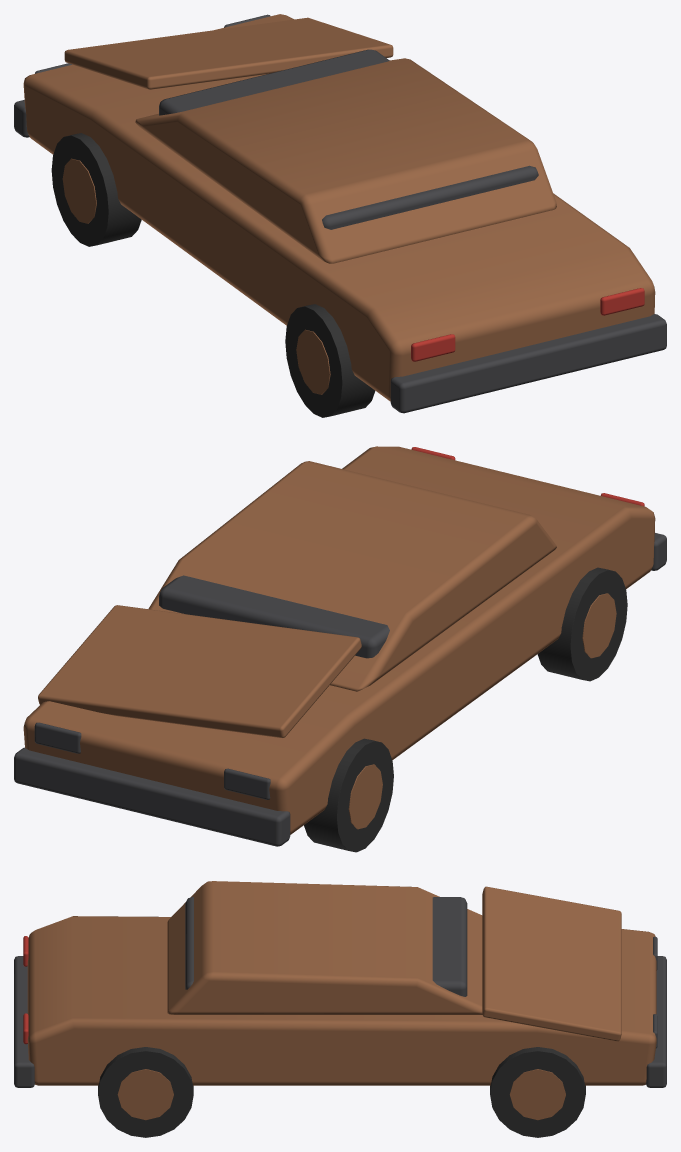
File: car_wreck.glb
3 views of the same model, one above another, from view 1: azimuth 30°, elevation 25°; view 2: azimuth 150°, elevation 25°; view 3: azimuth 270°, elevation 25° (orthographic). The views are drawn at different scales.
Visible parts, largest first — view 1: Body, Cabin, Bonnet, BumperR, Interior, Wheel, Wheel.001, Hub, Hub.001, Taillight, Taillight.001; view 2: Body, Cabin, Bonnet, BumperF, Interior, Wheel, Wheel.001, Hub, Hub.001, Headlight.001, Headlight; view 3: Body, Cabin, Bonnet, Wheel.002, Wheel.003, Interior, Hub.002, Hub.003, BumperR, BumperF.
Part boxes in pixels (bbox=[...]): Body: bbox=[23, 14, 655, 401]; Cabin: bbox=[135, 58, 556, 263]; Bonnet: bbox=[64, 17, 393, 89]; BumperR: bbox=[390, 314, 666, 413]; Interior: bbox=[159, 49, 538, 229]; Wheel: bbox=[285, 304, 375, 417]; Wheel.001: bbox=[51, 133, 141, 246]; Hub: bbox=[296, 329, 330, 394]; Hub.001: bbox=[62, 158, 96, 223]; Taillight: bbox=[411, 334, 455, 361]; Taillight.001: bbox=[600, 288, 644, 315]; Body: bbox=[23, 446, 655, 834]; Cabin: bbox=[148, 461, 556, 691]; Bonnet: bbox=[38, 605, 361, 737]; BumperF: bbox=[14, 747, 290, 846]; Interior: bbox=[159, 575, 389, 658]; Wheel: bbox=[537, 567, 627, 681]; Wheel.001: bbox=[304, 738, 393, 852]; Hub: bbox=[582, 593, 616, 658]; Hub.001: bbox=[348, 764, 382, 829]; Headlight.001: bbox=[34, 722, 81, 753]; Headlight: bbox=[224, 768, 270, 799]; Body: bbox=[27, 916, 656, 1085]; Cabin: bbox=[167, 881, 482, 1014]; Bonnet: bbox=[482, 886, 621, 1041]; Wheel.002: bbox=[98, 1047, 193, 1137]; Wheel.003: bbox=[490, 1047, 585, 1137]; Interior: bbox=[185, 897, 467, 996]; Hub.002: bbox=[117, 1069, 173, 1120]; Hub.003: bbox=[509, 1069, 565, 1120]; BumperR: bbox=[14, 956, 34, 1087]; BumperF: bbox=[646, 956, 666, 1087].
Bounding box in the file's own units: 1.97 × 1.2 × 4.63.
